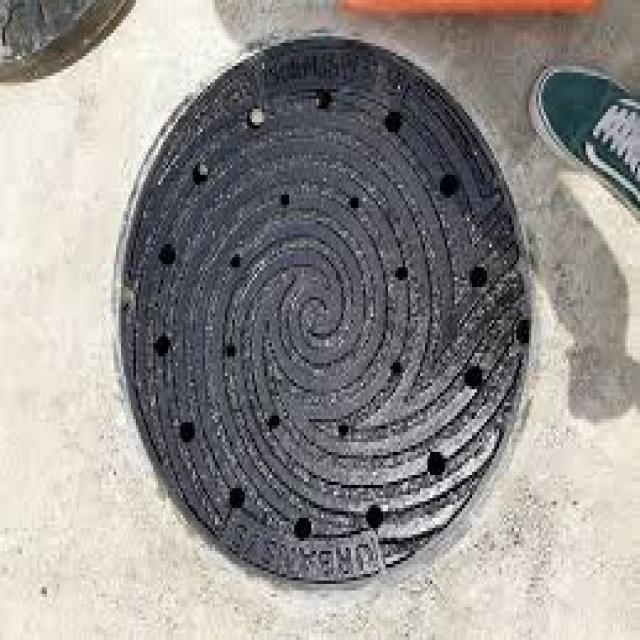Sewer Cover: (83, 12, 554, 608)
